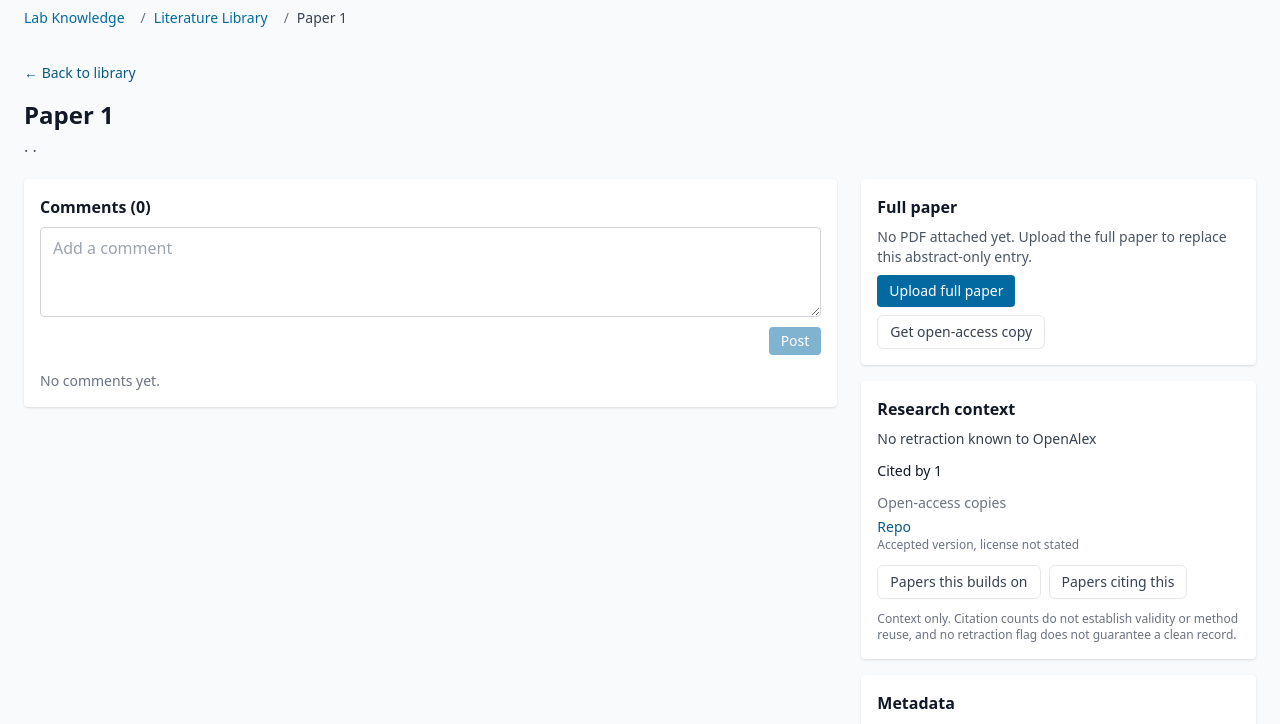
Test: a copy that could not be saved says so plainly
The image size is (1280, 724).
Click the button "Get open-access copy" at (961, 332), box [877,315,1045,349]
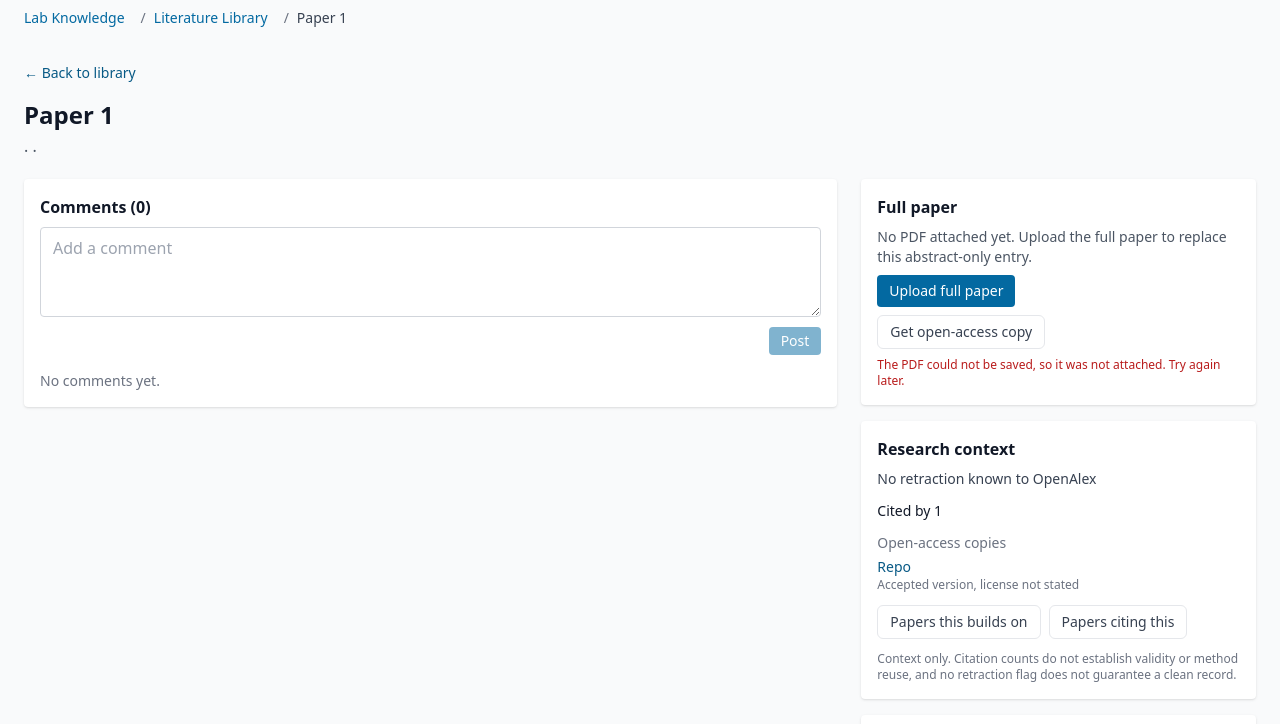
Now the text "The PDF could not be saved, so it was not attached. Try again later." is shown, box [877,357,1240,389]
